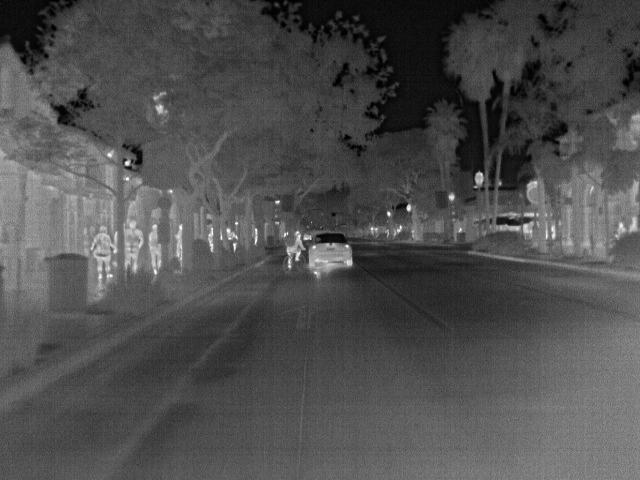car: (308, 231, 353, 268)
person: (88, 225, 119, 277), (124, 219, 147, 269), (149, 222, 163, 278), (284, 228, 306, 262), (173, 222, 186, 263), (226, 228, 240, 250), (616, 219, 629, 239)
